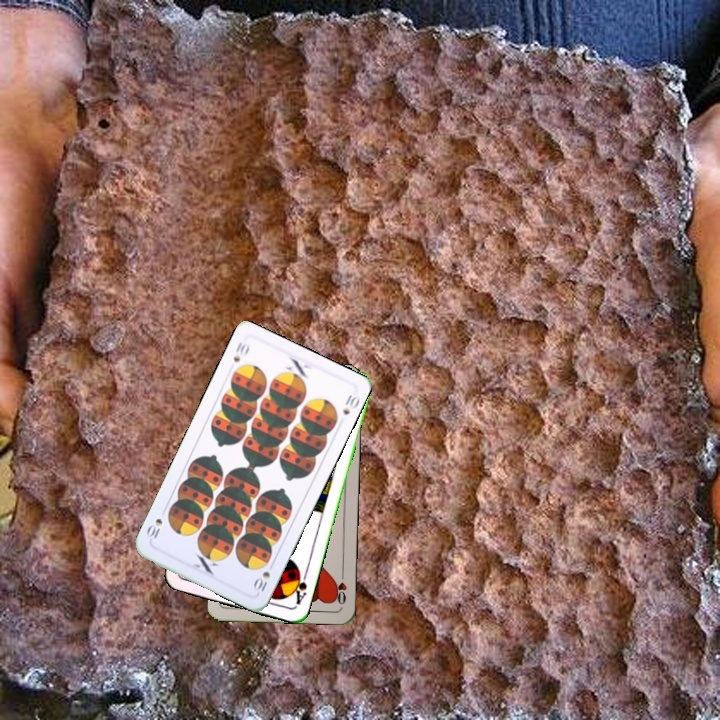HO: (331, 568, 349, 607)
S10: (249, 558, 277, 596), (229, 338, 252, 365)
SA: (287, 566, 310, 607)
